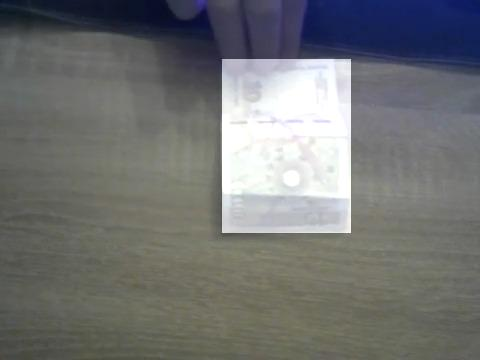10leva: (222, 59, 351, 233)
